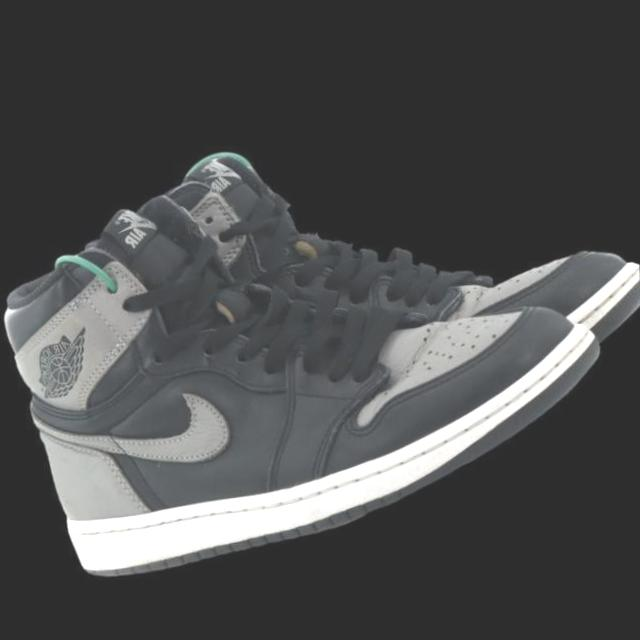nike_original_jordan: (0, 48, 625, 636), (119, 2, 640, 501)
